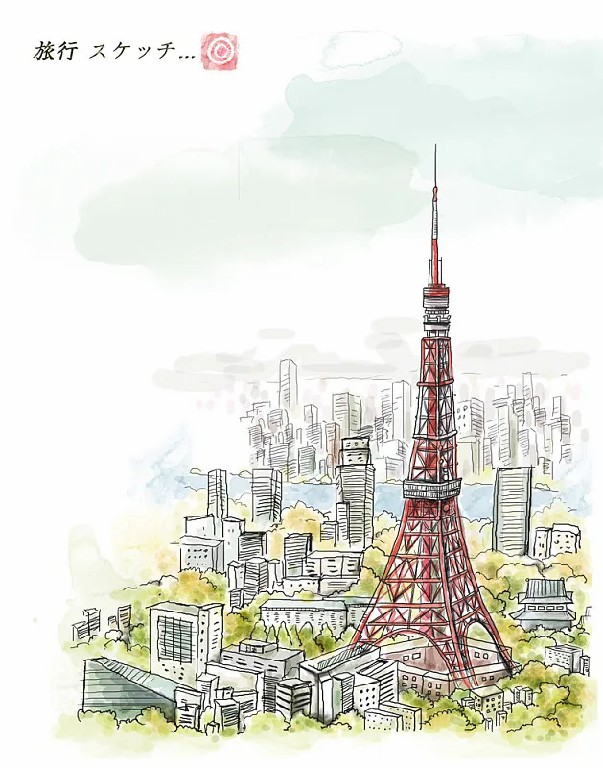Tokyo: (349, 142, 514, 697)
